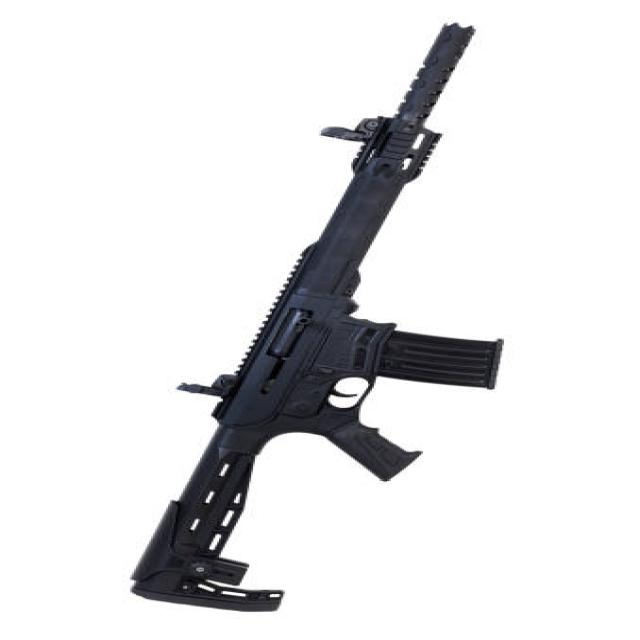rifle: (111, 17, 512, 619)
